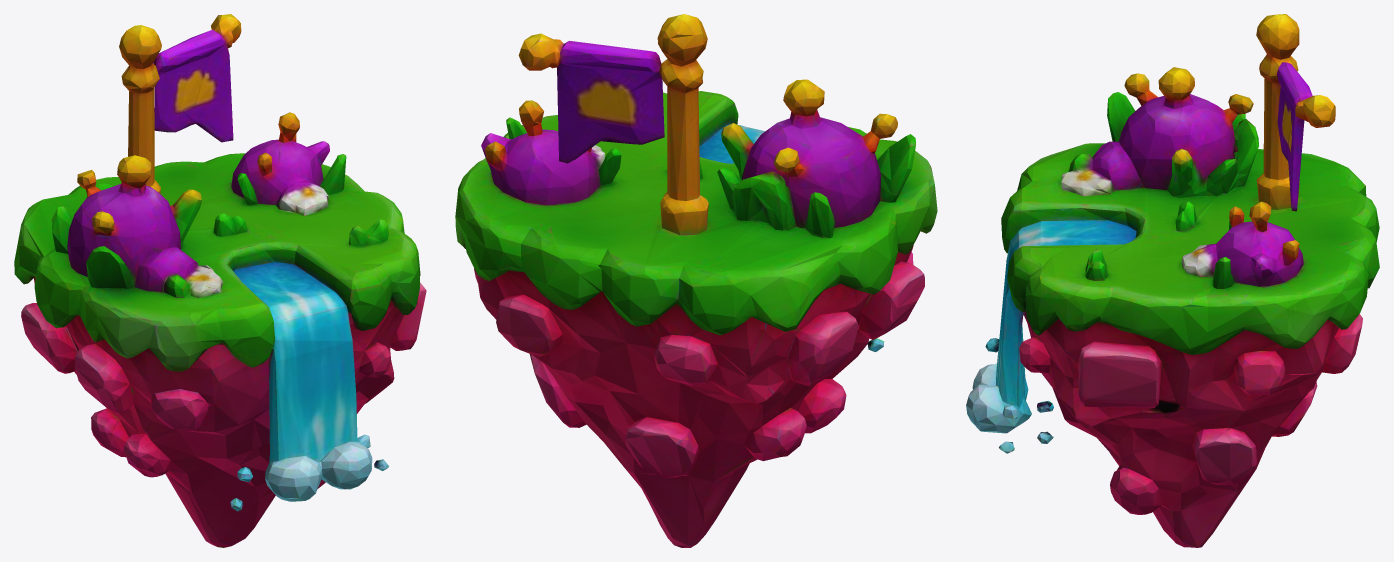
The model's file is ile.glb.
The picture shows the model from 3 angles, left to right: view 1: azimuth 30°, elevation 25°; view 2: azimuth 150°, elevation 25°; view 3: azimuth 270°, elevation 25°; orthographic projection. The views are drawn at different scales.
Parts seen in each view (by area): view 1: geometry_0; view 2: geometry_0; view 3: geometry_0.
Boxes of the visible parts, bbox=[...] form: geometry_0: bbox=[14, 14, 426, 547]; geometry_0: bbox=[455, 14, 937, 547]; geometry_0: bbox=[966, 14, 1379, 547].
Bounding box in the file's own units: 0.7084 × 0.9971 × 0.733.
1 material, 1 textured.
